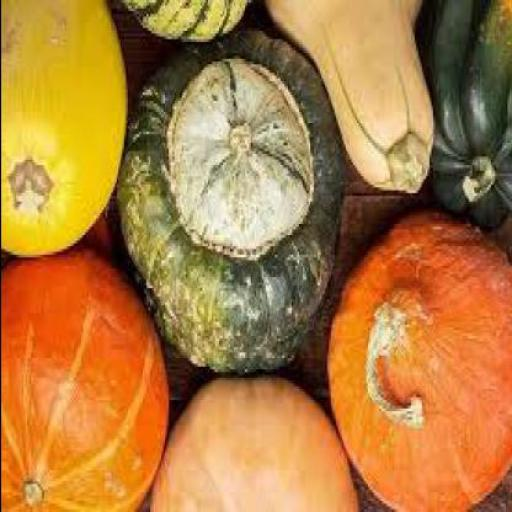biodegradable: (116, 28, 342, 370), (332, 201, 511, 509), (2, 243, 169, 509), (268, 0, 434, 193), (2, 0, 128, 252), (150, 369, 360, 510), (414, 0, 510, 225), (110, 0, 253, 34)
